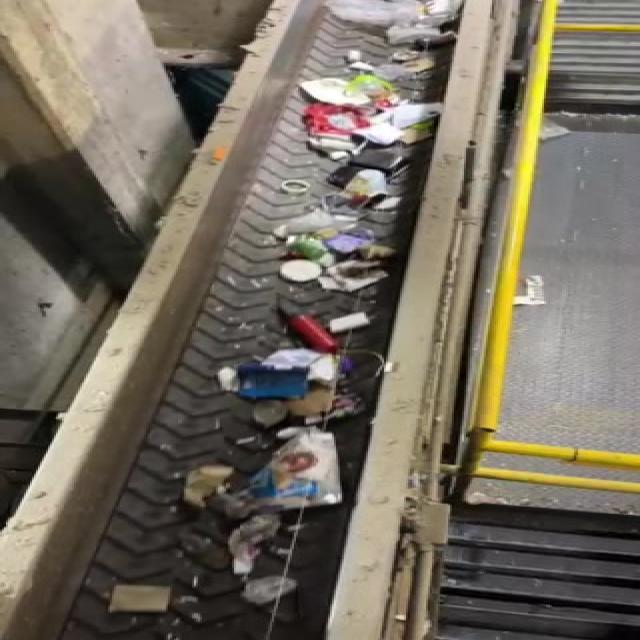pp: (225, 362, 329, 412), (240, 573, 300, 612)
ps: (208, 429, 349, 518), (105, 578, 179, 618)
